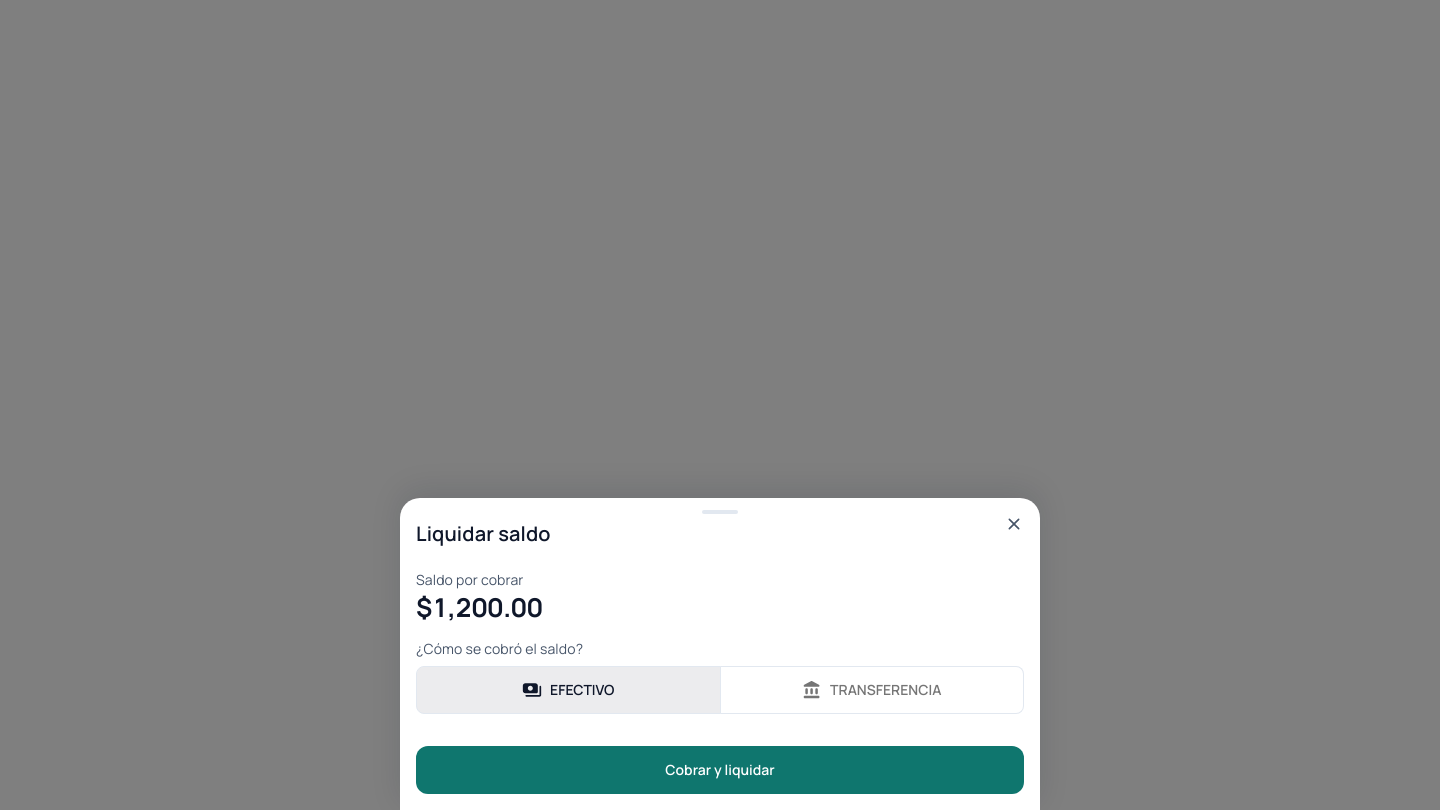
Test case: SettleSheet › a transfer requires its bank reference (US-AG41) › blocks submit until the reference is long enough
Click the button "Transferencia": (872, 690) [720, 666, 1024, 714]
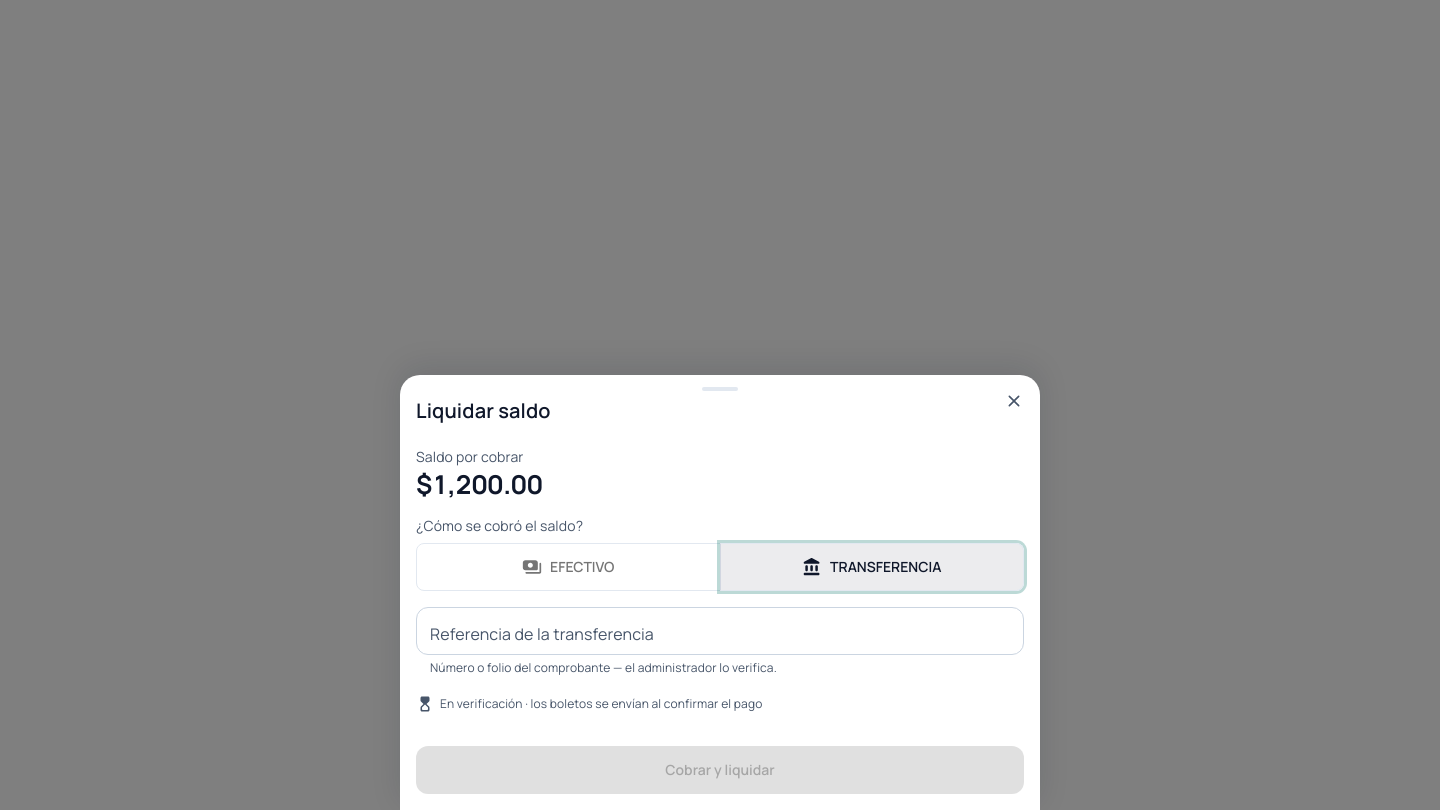
Now the button "Cobrar y liquidar" is disabled, box [416, 746, 1024, 794]
In the field labelled "Referencia de la transferencia": (720, 631) [416, 607, 1024, 655], type "ABC"
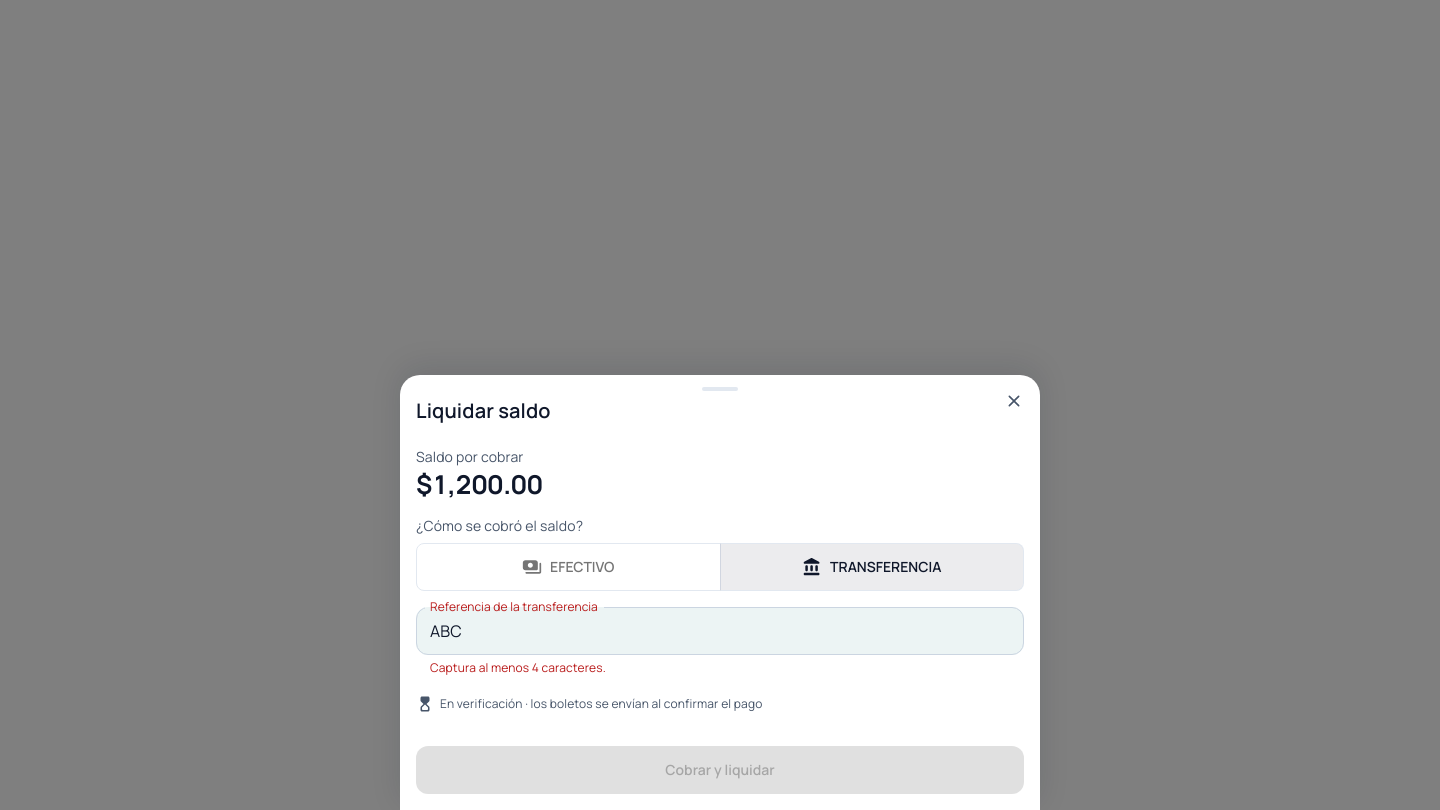
Now the button "Cobrar y liquidar" is disabled, box [416, 746, 1024, 794]
Now the text "Captura al menos 4 caracteres." is shown, box [430, 659, 606, 676]
In the field labelled "Referencia de la transferencia": (720, 631) [416, 607, 1024, 655], type "D"
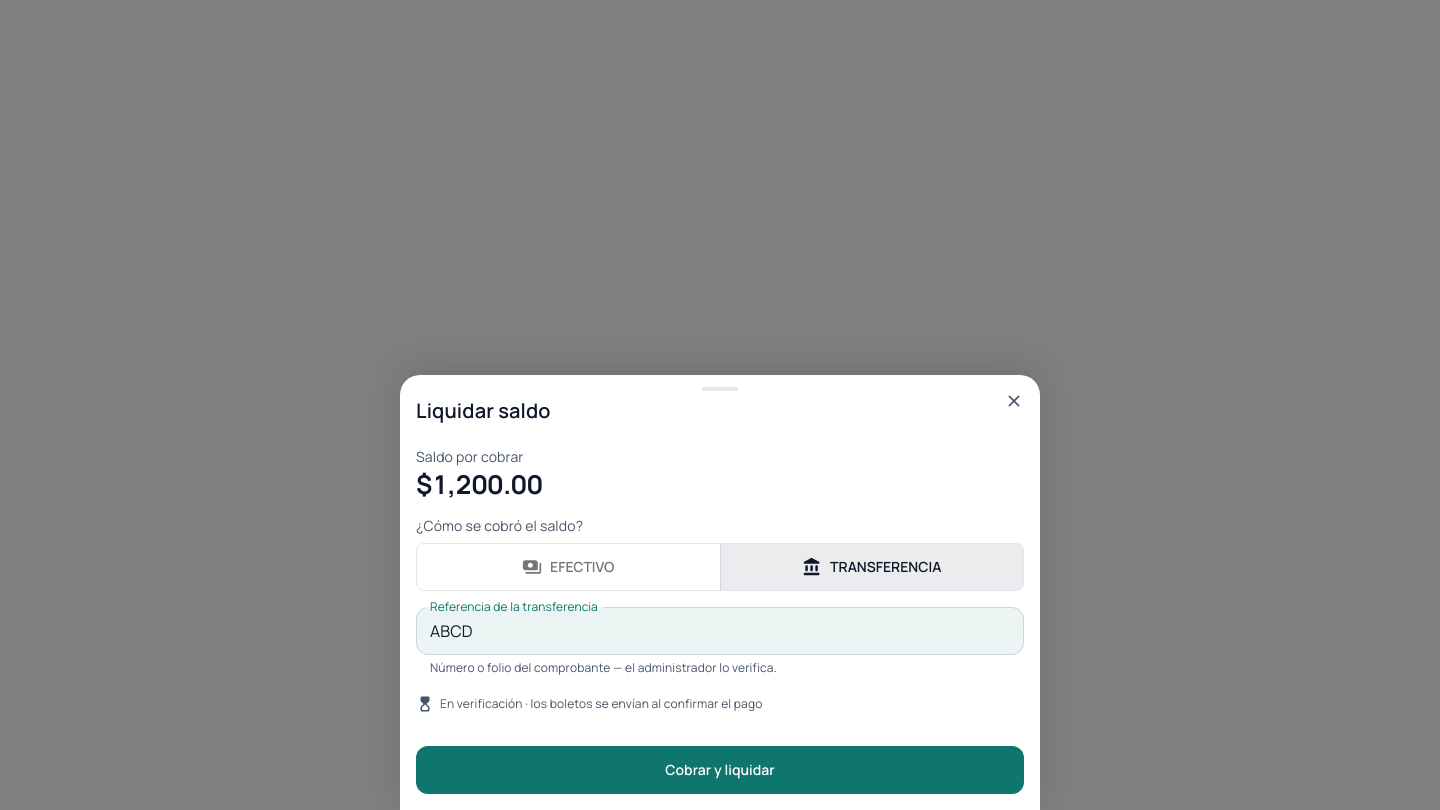
Now the button "Cobrar y liquidar" is enabled, box [416, 746, 1024, 794]
